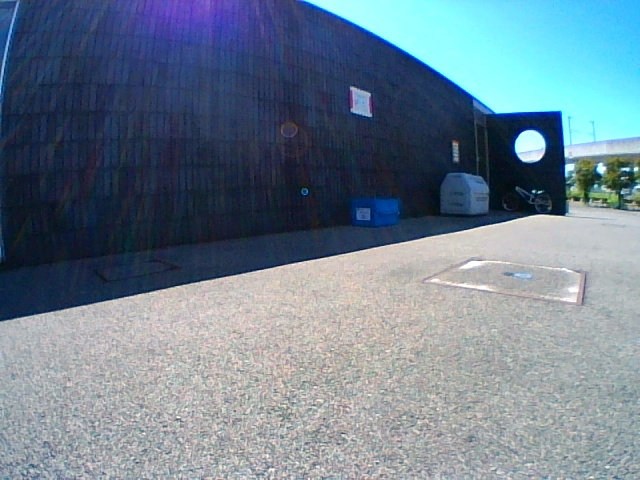blue_box: (353, 199, 399, 226)
tag: (357, 207, 370, 220)
